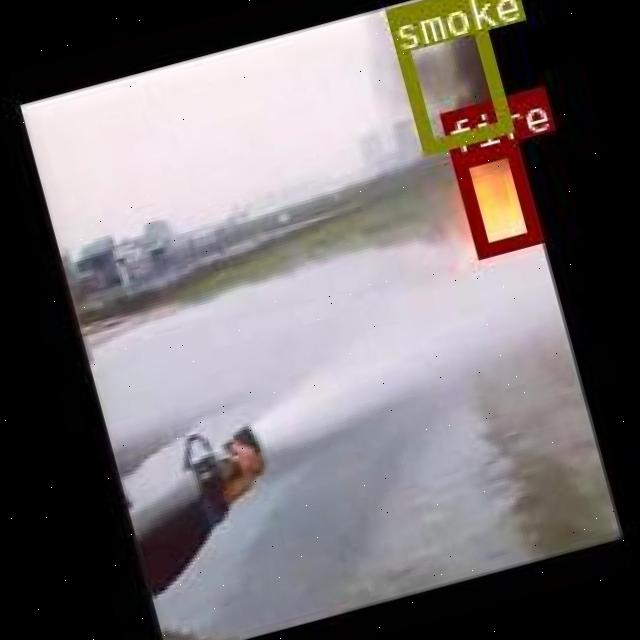fire: (448, 141, 538, 257)
smoke: (385, 0, 510, 151)
